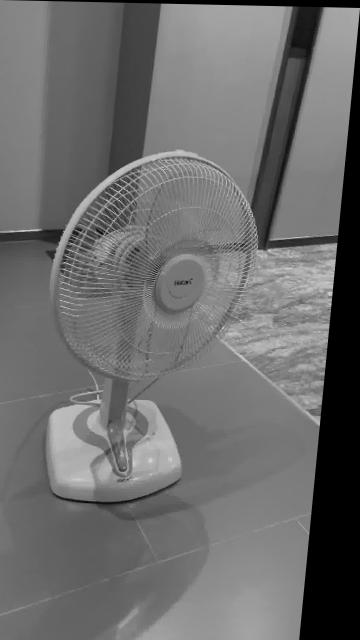Fan: (55, 150, 263, 504)
